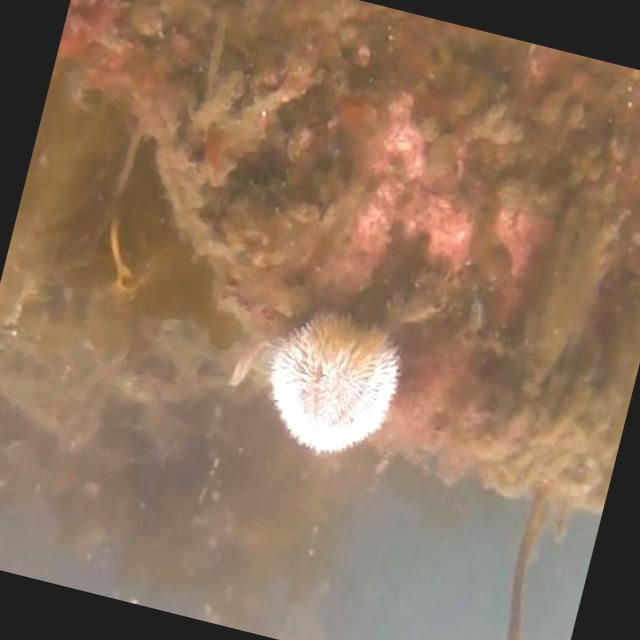Deniz Kestanesi: (252, 302, 409, 470)
